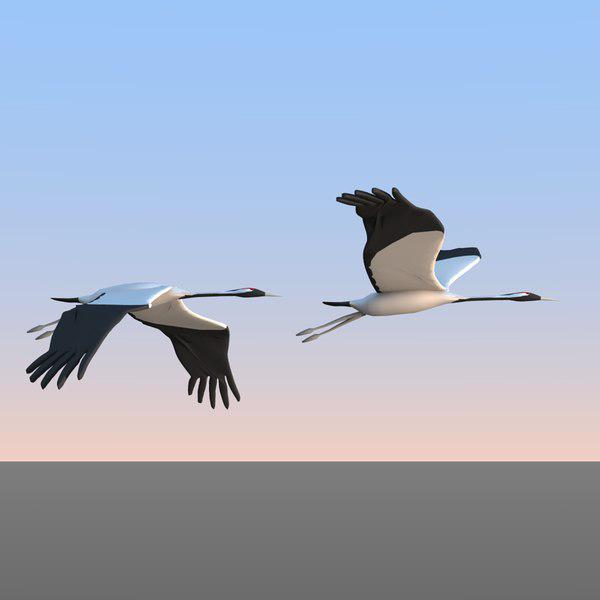bird: (288, 174, 564, 364), (14, 273, 280, 432)
